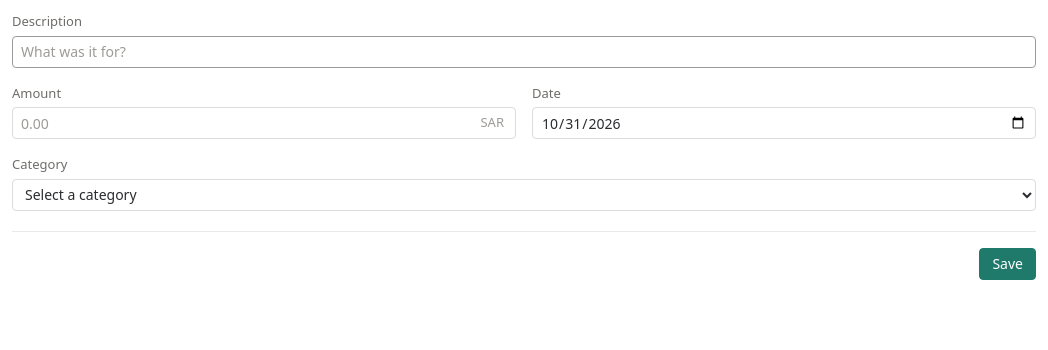
Test: ExpenseForm server errors › shows a generic error message
Select "Food" in the dropdown labelled "Category" at (524, 194), box 12,178 -> 1036,210
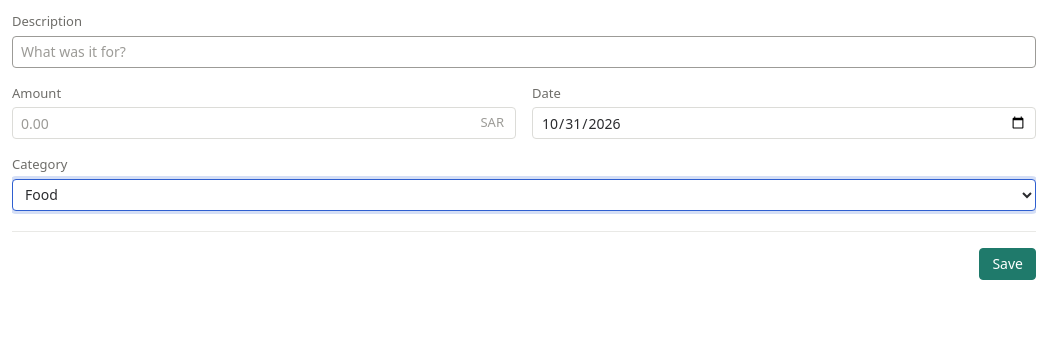
Type "12.50" into the number field labelled "Amount" at (264, 123), box 12,107 -> 516,139
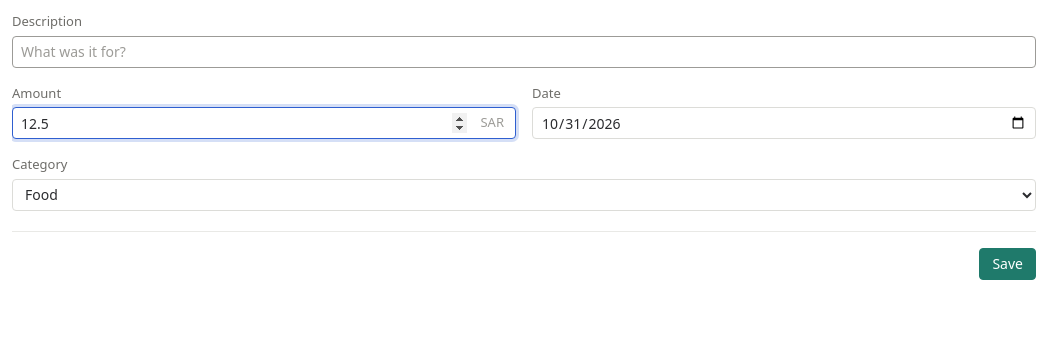
Type "  Lunch  " into the field labelled "Description" at (524, 52), box 12,36 -> 1036,68
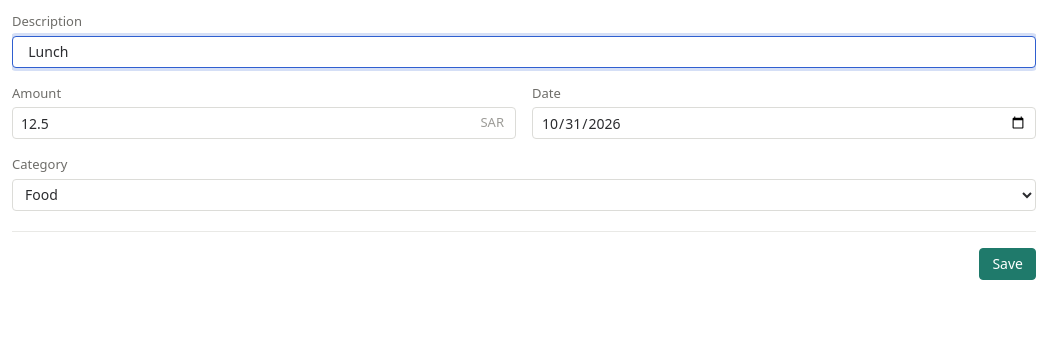
Type "2026-10-01" into the date field labelled "Date" at (784, 123), box 532,107 -> 1036,139
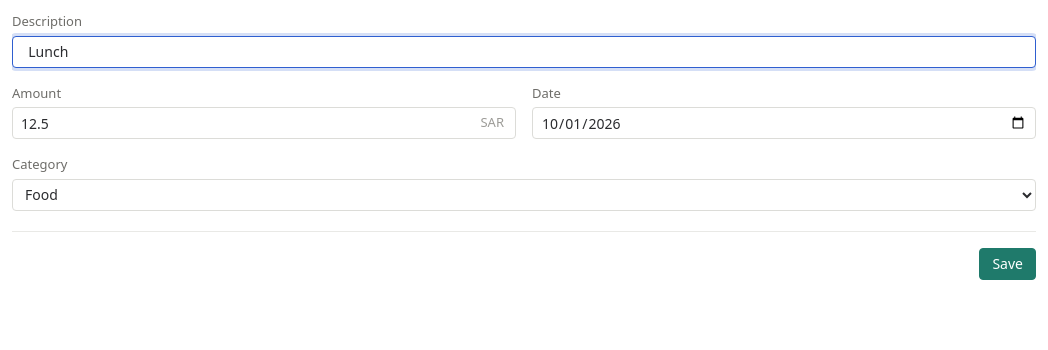
Click the button "Save" at (1008, 264), box 979,248 -> 1036,280
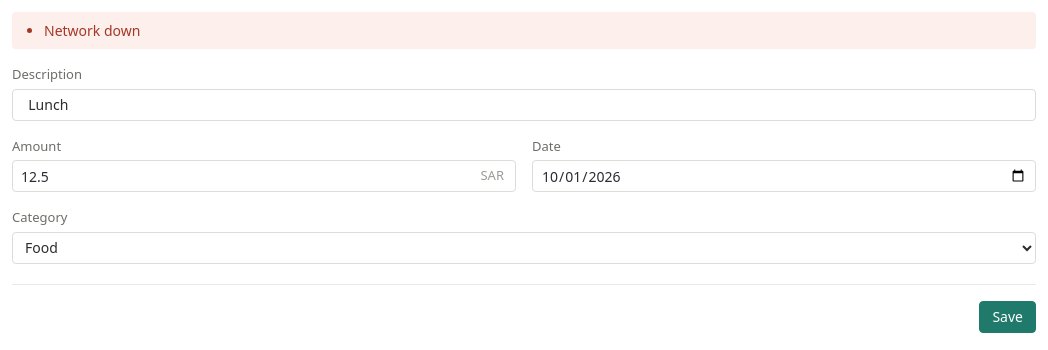
Result: the list item "Network down" is shown at 44,21 -> 140,40
